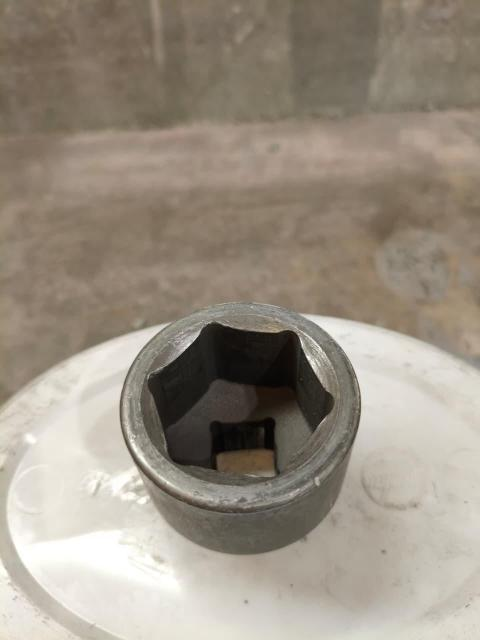Metal: (118, 299, 362, 555)
